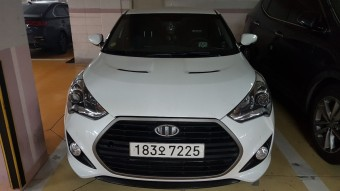car: (127, 140, 205, 159)
